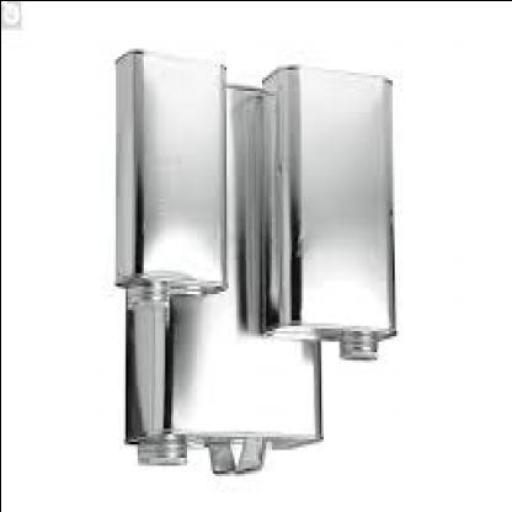metal: (126, 84, 324, 476), (263, 66, 397, 361), (116, 50, 230, 309)
